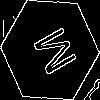M: (25, 25, 78, 82)
